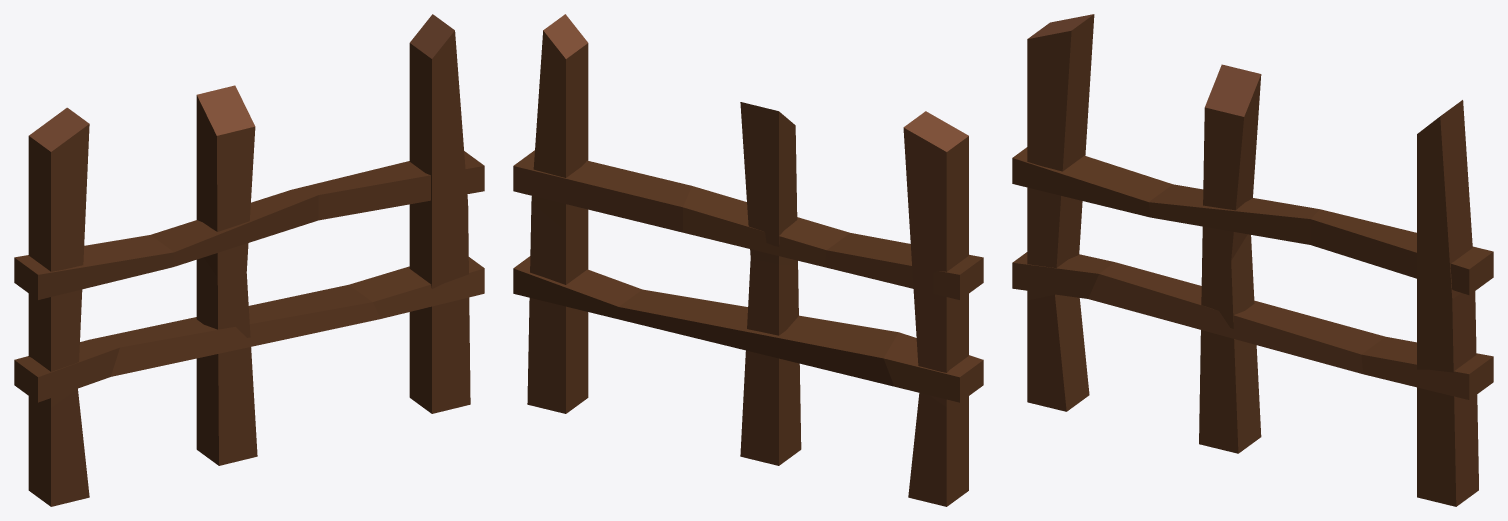
The model's file is woodfence.fbx.
The picture shows the model from 3 angles, left to right: view 1: azimuth 30°, elevation 25°; view 2: azimuth 150°, elevation 25°; view 3: azimuth 330°, elevation 25°; orthographic projection. The views are drawn at different scales.
Parts seen in each view (by area): view 1: Wood Fence; view 2: Wood Fence; view 3: Wood Fence.
Boxes of the visible parts, bbox=[...] form: Wood Fence: bbox=[14, 14, 484, 506]; Wood Fence: bbox=[513, 14, 983, 506]; Wood Fence: bbox=[1012, 14, 1493, 506].
Bounding box in the file's own units: 263 × 213 × 29.16.
